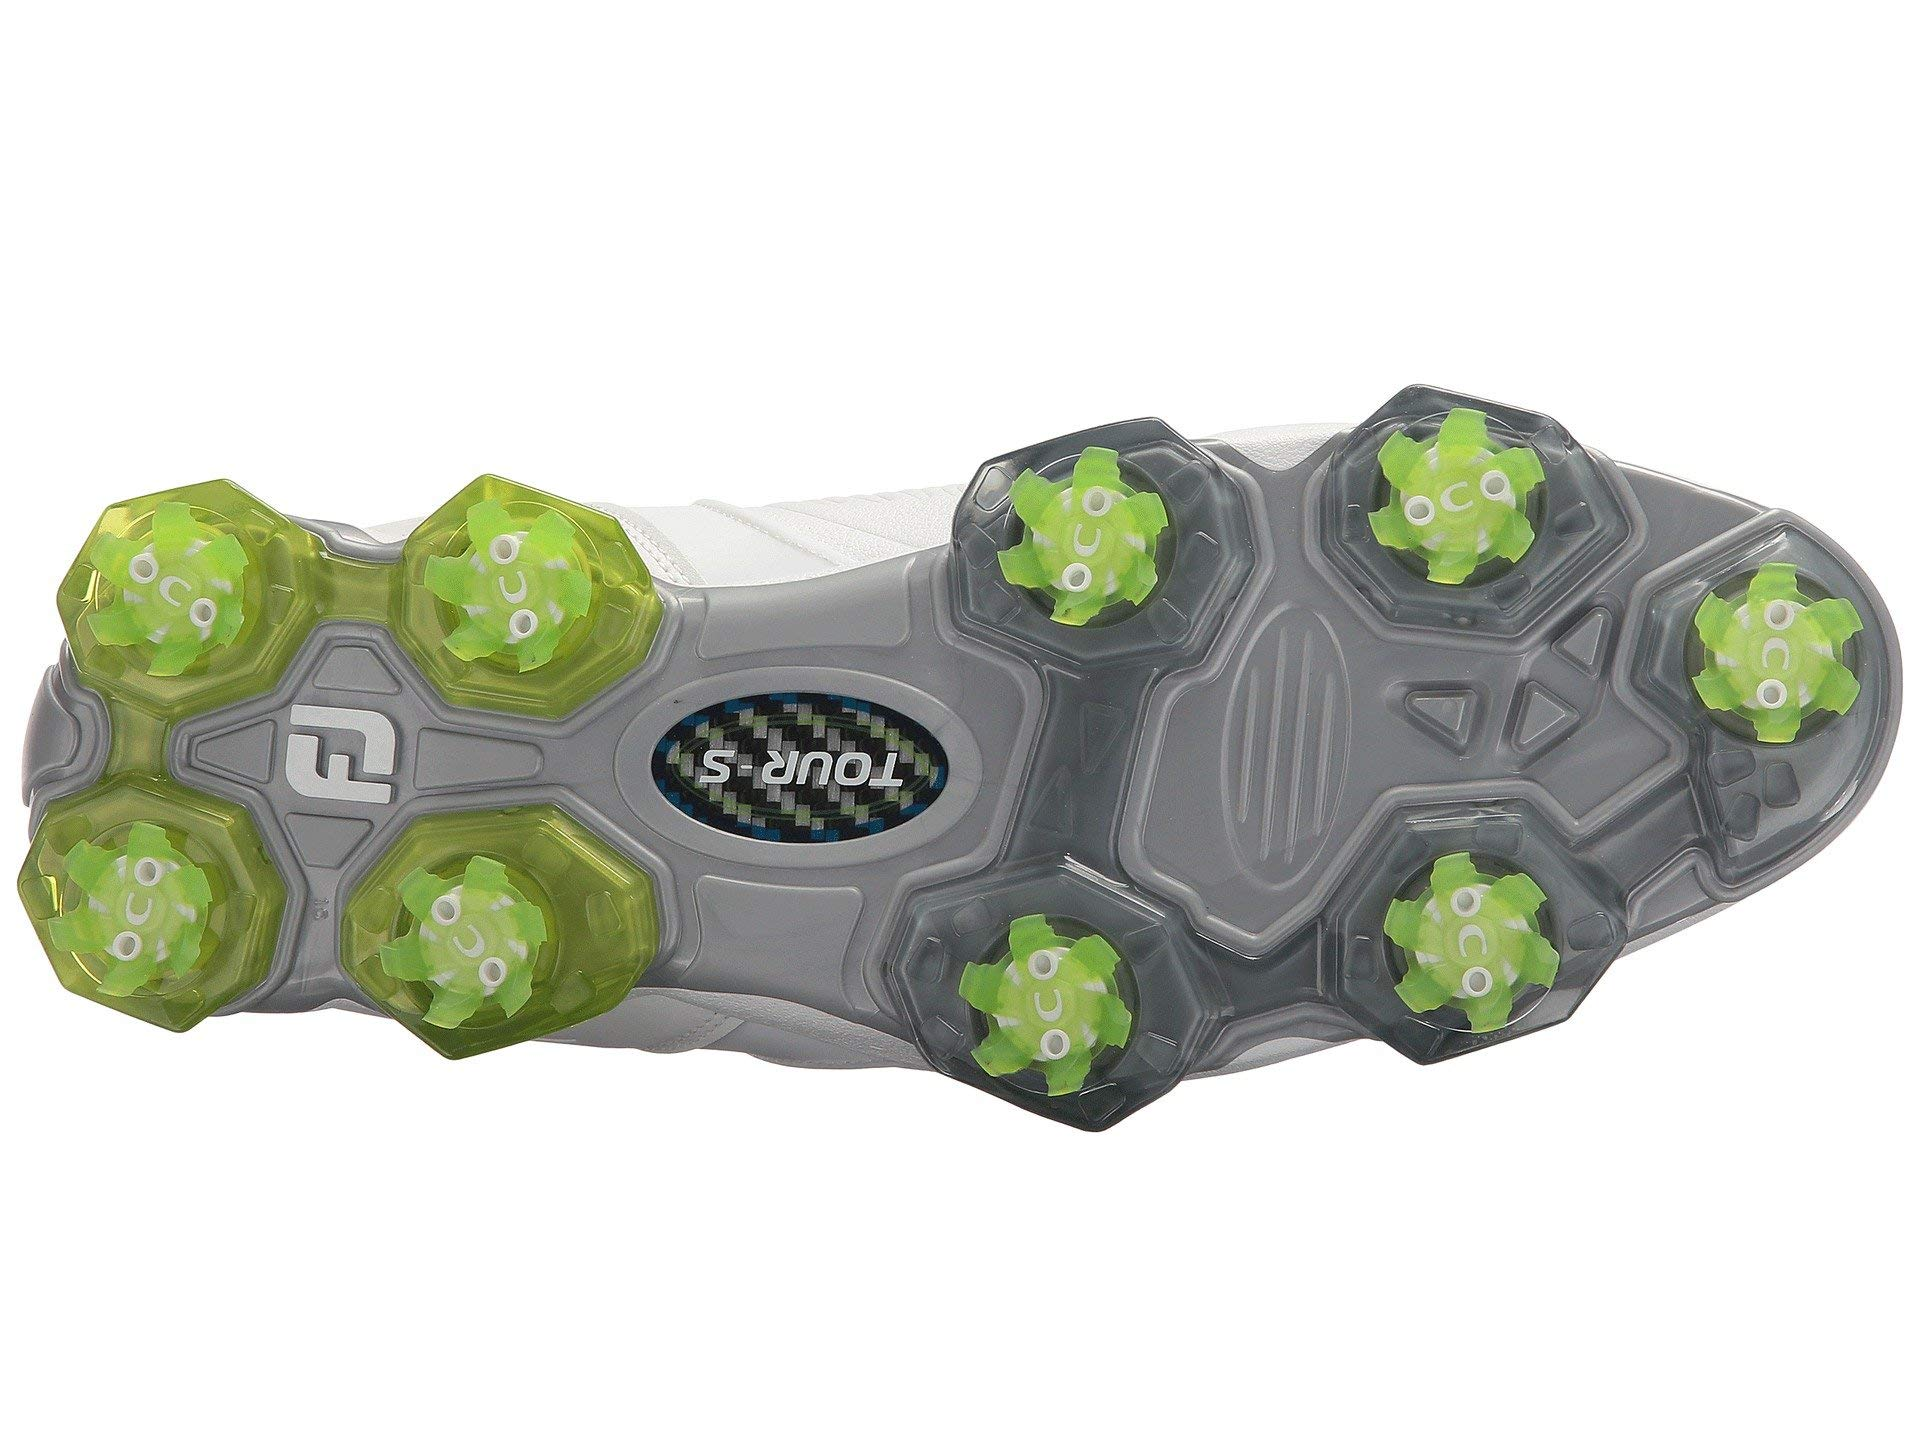circle: (553, 619, 996, 897)
quad: (77, 498, 416, 791)
star: (77, 498, 416, 791), (1332, 383, 1606, 640), (1637, 498, 1890, 750)
text: (553, 619, 996, 897), (77, 498, 416, 791), (1332, 383, 1606, 640), (1637, 498, 1890, 750)
triangle: (1380, 647, 1619, 799)
